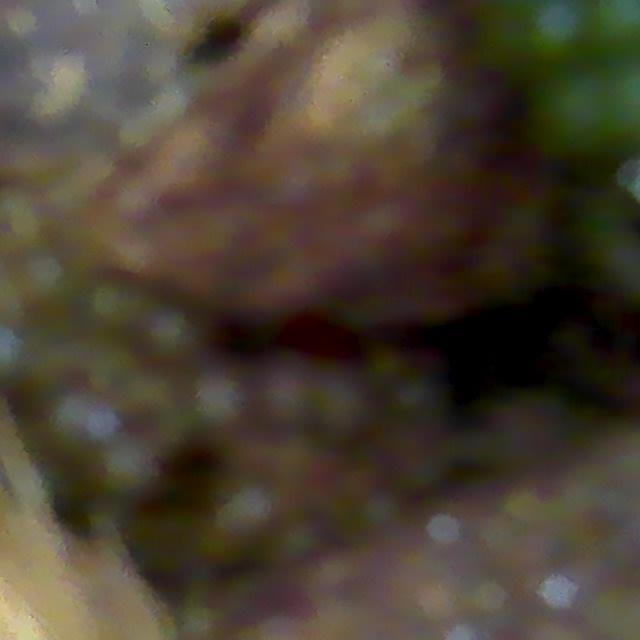SeaGrape: (536, 69, 622, 155), (183, 361, 257, 440), (524, 0, 591, 58)
